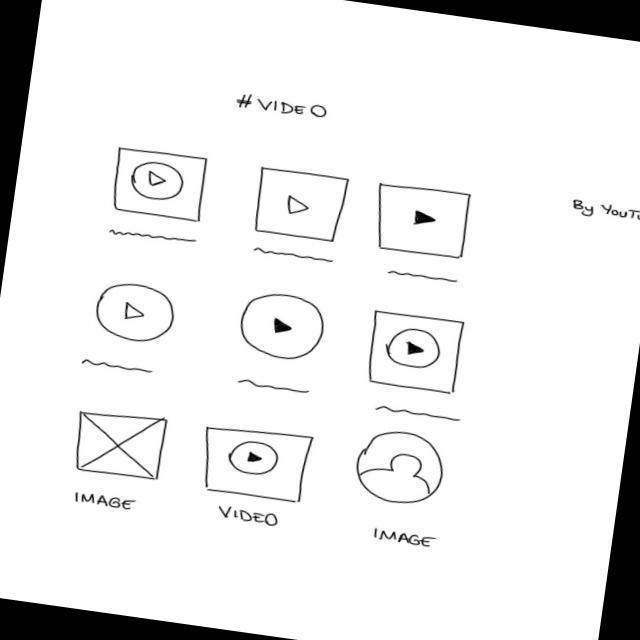image: (350, 426, 452, 512), (71, 406, 174, 486)
label: (234, 90, 332, 123), (569, 197, 640, 228), (69, 490, 142, 515), (216, 505, 286, 530), (372, 527, 441, 552)
text: (108, 227, 201, 249), (374, 403, 464, 425), (253, 245, 338, 266), (235, 377, 315, 399), (81, 358, 158, 378), (386, 268, 466, 286)
